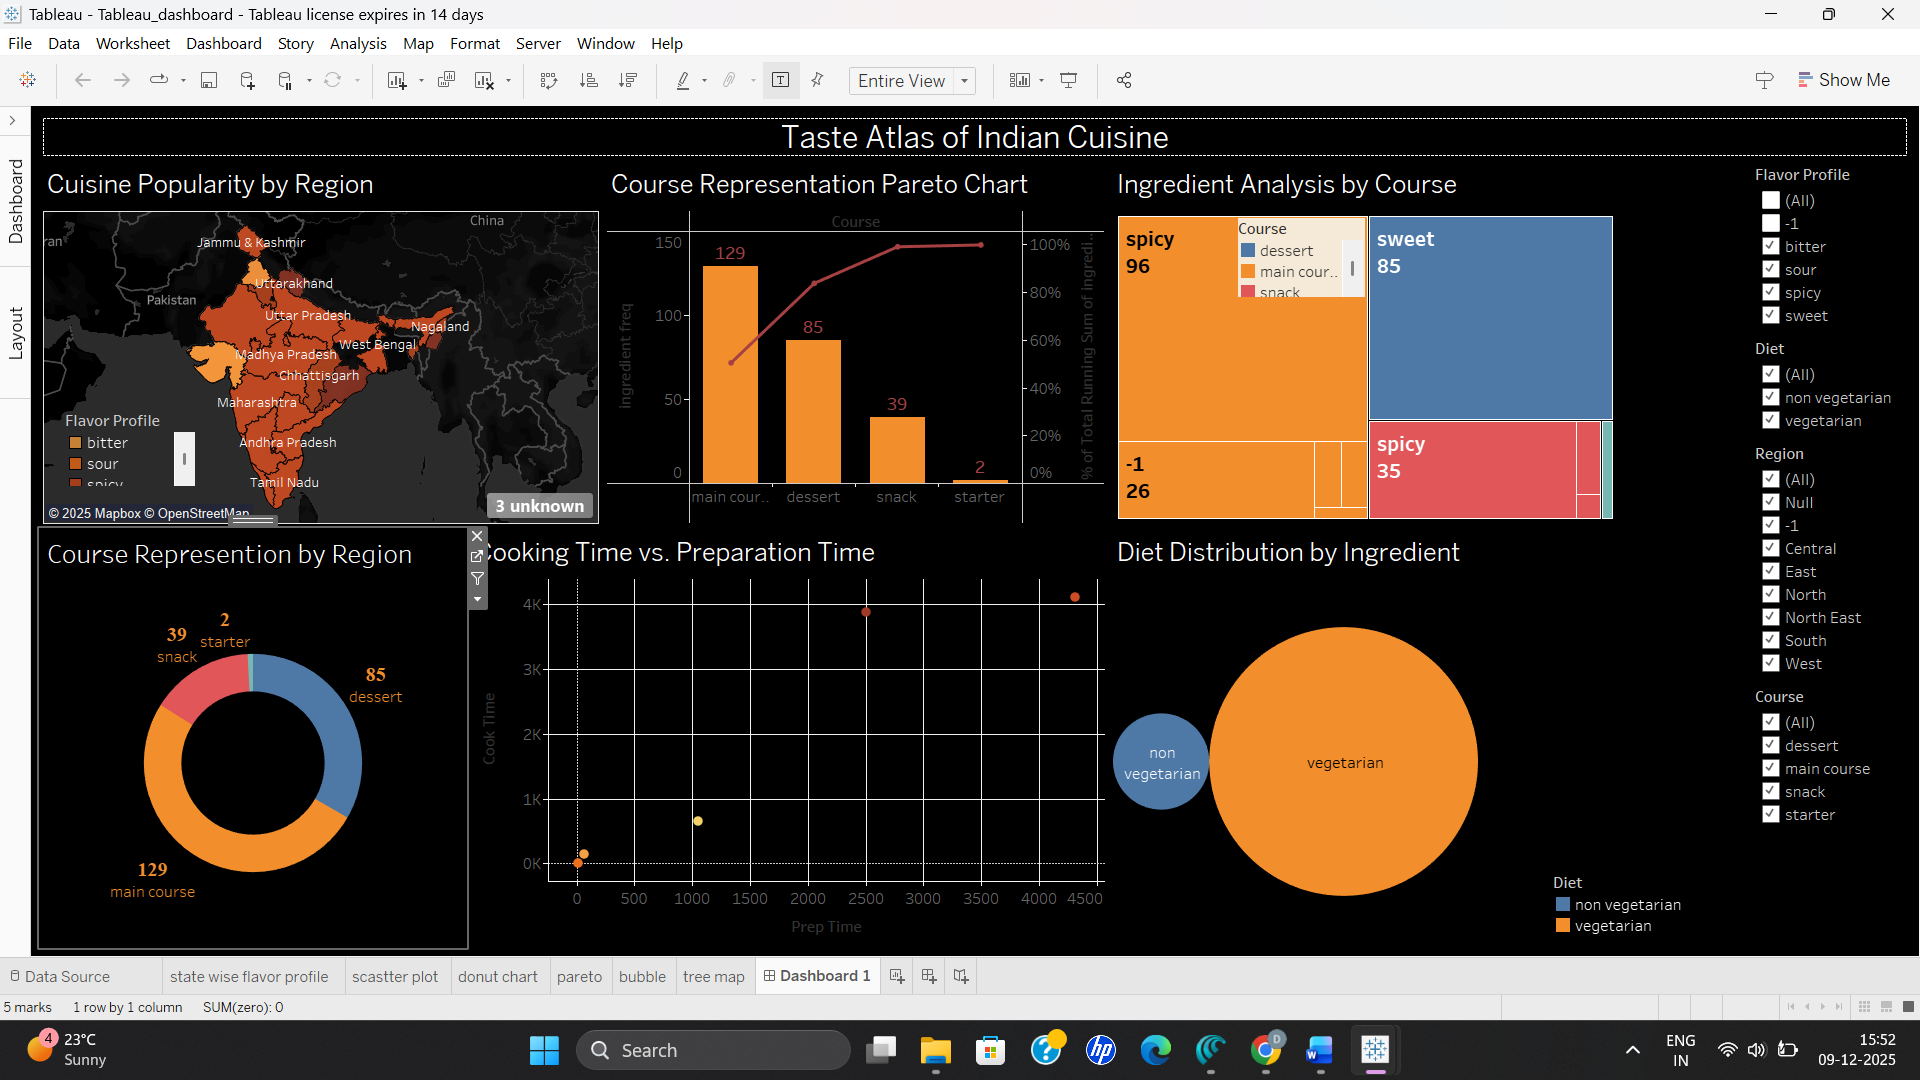

The dashboard page shown, as its layout file describes it:
{"tool":"tableau","page":{"name":"Dashboard 1","canvas":[1000,1000],"units":"permille","ordinal":0},"visuals":[{"type":"title","box":[4.2,9.4,991.5,54.1]},{"type":"worksheet","title":"state wise flavor profile","mark":"Multipolygon","box":[4.2,63.5,298.8,433]},{"type":"worksheet","title":"pareto","mark":"Automatic","rows":["Calculation_1065945752754028545","Calculation_1065945752754028545"],"cols":["course"],"box":[303,63.5,267.9,433]},{"type":"worksheet","title":"tree map","mark":"Automatic","box":[570.9,63.5,340.1,433]},{"type":"filter","title":"state wise flavor profile","param":"[federated.0xpjygy1fsuv4t1gyufgb0oote20].[none:flavor_profile:nk]","box":[911,63.5,84.8,204.5]},{"type":"legend","title":"donut chart","param":"[federated.0xpjygy1fsuv4t1gyufgb0oote20].[none:course:nk]","box":[639.3,131.6,67.3,92.8]},{"type":"filter","title":"scastter plot","param":"[federated.0xpjygy1fsuv4t1gyufgb0oote20].[none:diet:nk]","box":[911,267.9,84.8,123.4]},{"type":"legend","title":"state wise flavor profile","param":"[federated.0xpjygy1fsuv4t1gyufgb0oote20].[none:flavor_profile:nk]","box":[18.1,357.2,70,89.3]},{"type":"filter","title":"scastter plot","param":"[federated.0xpjygy1fsuv4t1gyufgb0oote20].[none:region:nk]","box":[911,391.3,84.8,285.6]},{"type":"worksheet","title":"donut chart","mark":"Pie","rows":["Calculation_1065945752756617218","Calculation_1065945752756617218"],"box":[4.2,496.5,226.7,494.1]},{"type":"worksheet","title":"scastter plot","mark":"Automatic","rows":["cook_time"],"cols":["prep_time"],"box":[230.9,496.5,340,494.1]},{"type":"worksheet","title":"bubble","mark":"Circle","box":[570.9,496.5,340.1,494.1]},{"type":"filter","title":"bubble","param":"[federated.0xpjygy1fsuv4t1gyufgb0oote20].[none:course:nk]","box":[911,676.8,84.8,177.4]},{"type":"legend","title":"bubble","param":"[federated.0xpjygy1fsuv4t1gyufgb0oote20].[none:diet:nk]","box":[806.3,901.3,84.5,75.2]}]}

Visuals, with their boxes on the dashboard's canvas, which has no fixed pixel size, in thousandths of its width and height (x1, y1, x2, y2). These are canvas units, not pixel positions in the 1920x1080 screenshot, which may show the page scaled, cropped or inside an application window:
title: l=4, t=9, r=996, b=64
"state wise flavor profile" worksheet (Multipolygon marks): l=4, t=64, r=303, b=496
"pareto" worksheet: l=303, t=64, r=571, b=496
"tree map" worksheet: l=571, t=64, r=911, b=496
"state wise flavor profile" filter: l=911, t=64, r=996, b=268
"donut chart" legend: l=639, t=132, r=707, b=224
"scastter plot" filter: l=911, t=268, r=996, b=391
"state wise flavor profile" legend: l=18, t=357, r=88, b=446
"scastter plot" filter: l=911, t=391, r=996, b=677
"donut chart" worksheet (Pie marks): l=4, t=496, r=231, b=991
"scastter plot" worksheet: l=231, t=496, r=571, b=991
"bubble" worksheet (Circle marks): l=571, t=496, r=911, b=991
"bubble" filter: l=911, t=677, r=996, b=854
"bubble" legend: l=806, t=901, r=891, b=976
